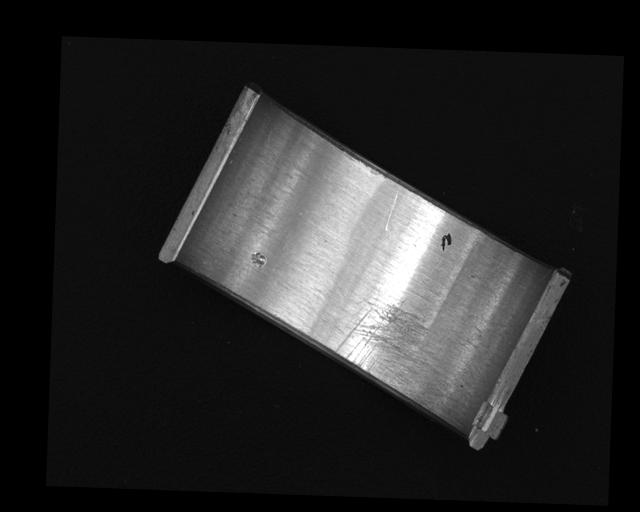blot: (441, 231, 453, 251)
bruise: (250, 251, 267, 271)
nick: (384, 187, 399, 232)
scratch: (334, 295, 443, 413)
